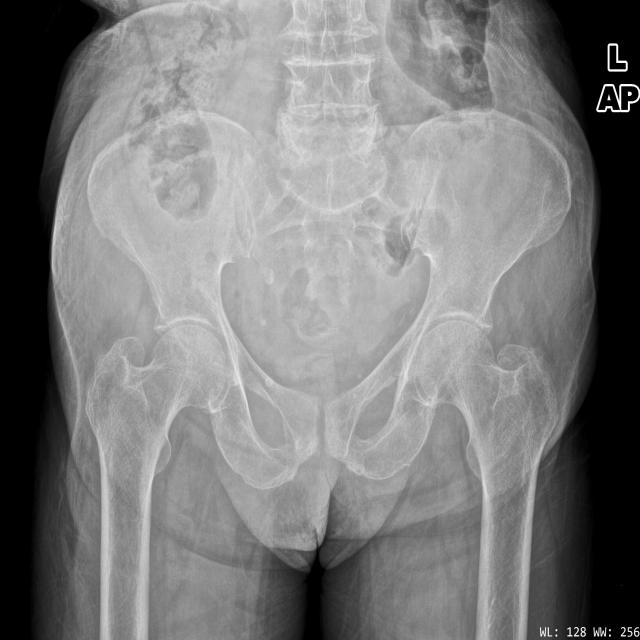normal-left: (415, 320, 559, 559)
normal-right: (85, 325, 227, 565)
